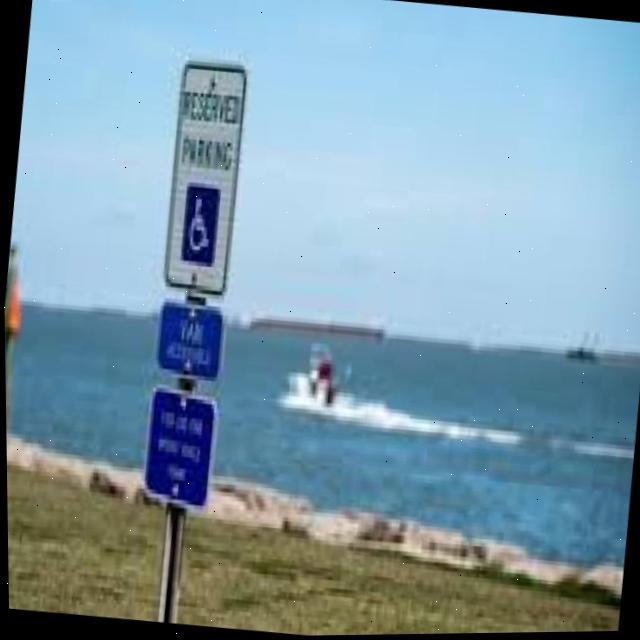symbol_of_access: (184, 198, 214, 257)
